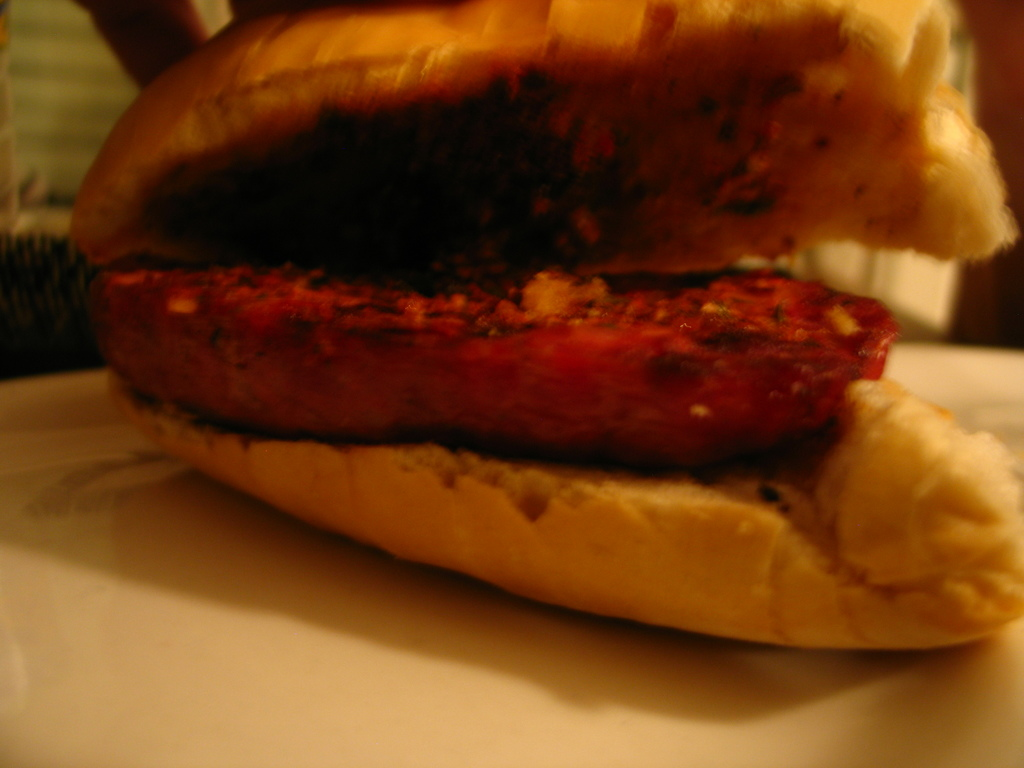hot_dog: (65, 0, 1023, 650)
